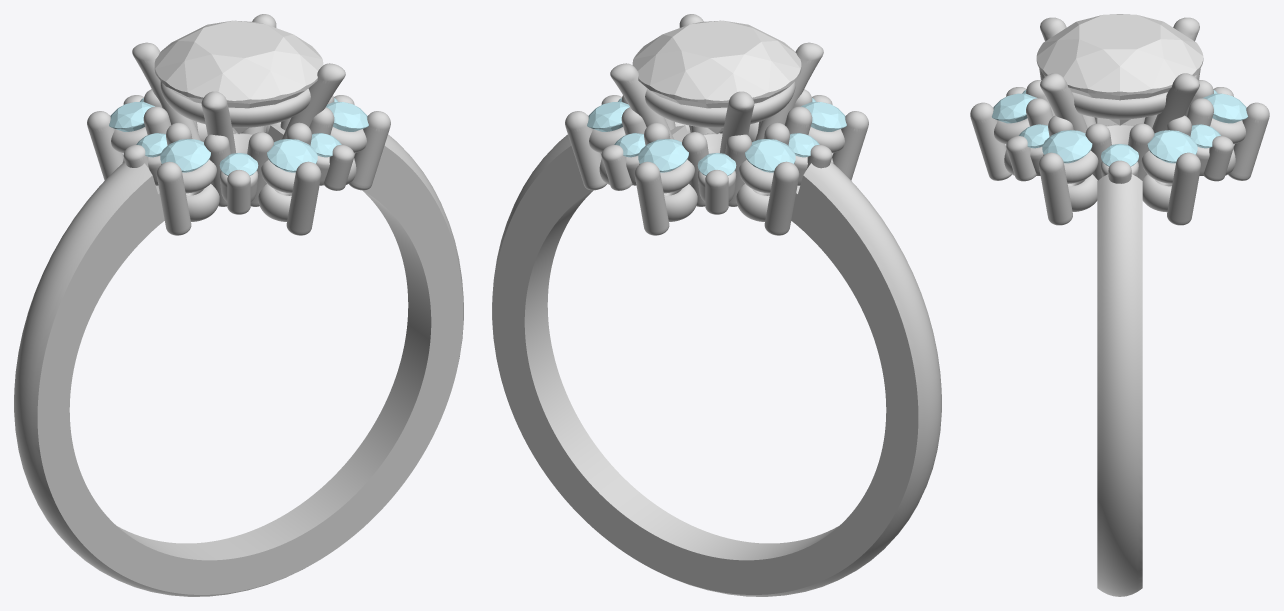
The model's file is NoahPTeng.glb.
The picture shows the model from 3 angles, left to right: view 1: azimuth 30°, elevation 25°; view 2: azimuth 150°, elevation 25°; view 3: azimuth 270°, elevation 25°; orthographic projection.
Visible parts, largest first — view 1: Noah RG for 3d model, V2 Noah PT for 3d model, V2 Noah dia for 3d model, Noah aqua for 3d model - for model only.006, Noah aqua for 3d model - for model only.011, Noah aqua for 3d model - for model only.007, Noah aqua for 3d model - for model only.010, Noah aqua for 3d model - for model only.005; view 2: Noah RG for 3d model, V2 Noah PT for 3d model, V2 Noah dia for 3d model, Noah aqua for 3d model - for model only.007, Noah aqua for 3d model - for model only.008, Noah aqua for 3d model - for model only.006, Noah aqua for 3d model - for model only.009, Noah aqua for 3d model - for model only.001; view 3: V2 Noah PT for 3d model, Noah RG for 3d model, V2 Noah dia for 3d model, Noah aqua for 3d model - for model only.009, Noah aqua for 3d model - for model only.010, Noah aqua for 3d model - for model only.008, Noah aqua for 3d model - for model only.011, Noah aqua for 3d model - for model only.003, Noah aqua for 3d model - for model only.002, Noah aqua for 3d model - for model only.004.
Part boxes in pixels (box(x1,y1,x2,y2)): Noah RG for 3d model: box(14, 134, 463, 596); V2 Noah PT for 3d model: box(87, 14, 390, 235); V2 Noah dia for 3d model: box(154, 20, 323, 133); Noah aqua for 3d model - for model only.006: box(160, 139, 210, 172); Noah aqua for 3d model - for model only.011: box(267, 139, 317, 172); Noah aqua for 3d model - for model only.007: box(109, 102, 154, 131); Noah aqua for 3d model - for model only.010: box(326, 102, 368, 131); Noah aqua for 3d model - for model only.005: box(219, 153, 258, 175); Noah RG for 3d model: box(492, 134, 941, 596); V2 Noah PT for 3d model: box(565, 14, 868, 235); V2 Noah dia for 3d model: box(632, 20, 801, 133); Noah aqua for 3d model - for model only.007: box(745, 139, 795, 172); Noah aqua for 3d model - for model only.008: box(638, 139, 688, 172); Noah aqua for 3d model - for model only.006: box(801, 102, 846, 131); Noah aqua for 3d model - for model only.009: box(587, 102, 629, 131); Noah aqua for 3d model - for model only.001: box(697, 153, 736, 175); V2 Noah PT for 3d model: box(970, 17, 1269, 225); Noah RG for 3d model: box(1097, 174, 1142, 596); V2 Noah dia for 3d model: box(1036, 14, 1203, 125); Noah aqua for 3d model - for model only.009: box(1147, 130, 1197, 163); Noah aqua for 3d model - for model only.010: box(1042, 130, 1092, 163); Noah aqua for 3d model - for model only.008: box(1202, 93, 1247, 123); Noah aqua for 3d model - for model only.011: box(992, 93, 1037, 123); Noah aqua for 3d model - for model only.003: box(1101, 144, 1138, 166); Noah aqua for 3d model - for model only.002: box(1190, 124, 1220, 148); Noah aqua for 3d model - for model only.004: box(1019, 124, 1049, 148).
Bounding box in the file's own units: 19.89 × 23.67 × 11.87.
